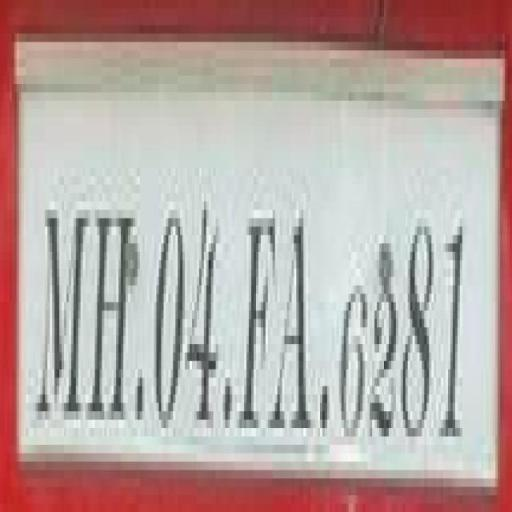number plate: (9, 50, 512, 486)
